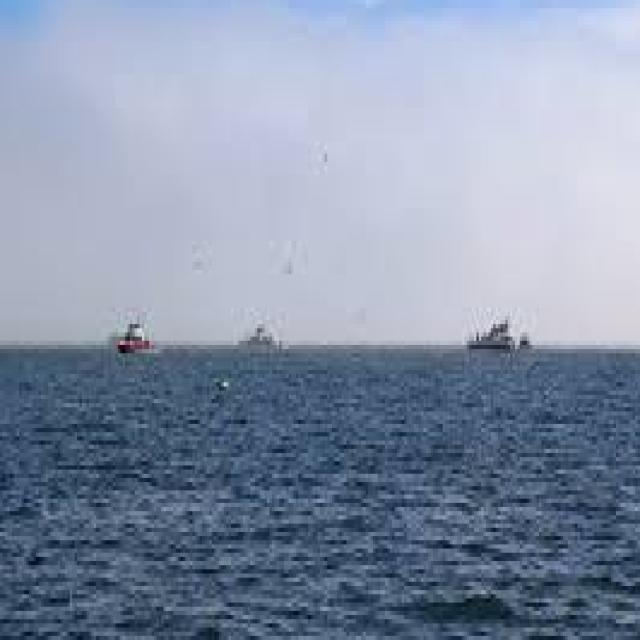fishing boat: (456, 286, 543, 378), (96, 300, 150, 369)
